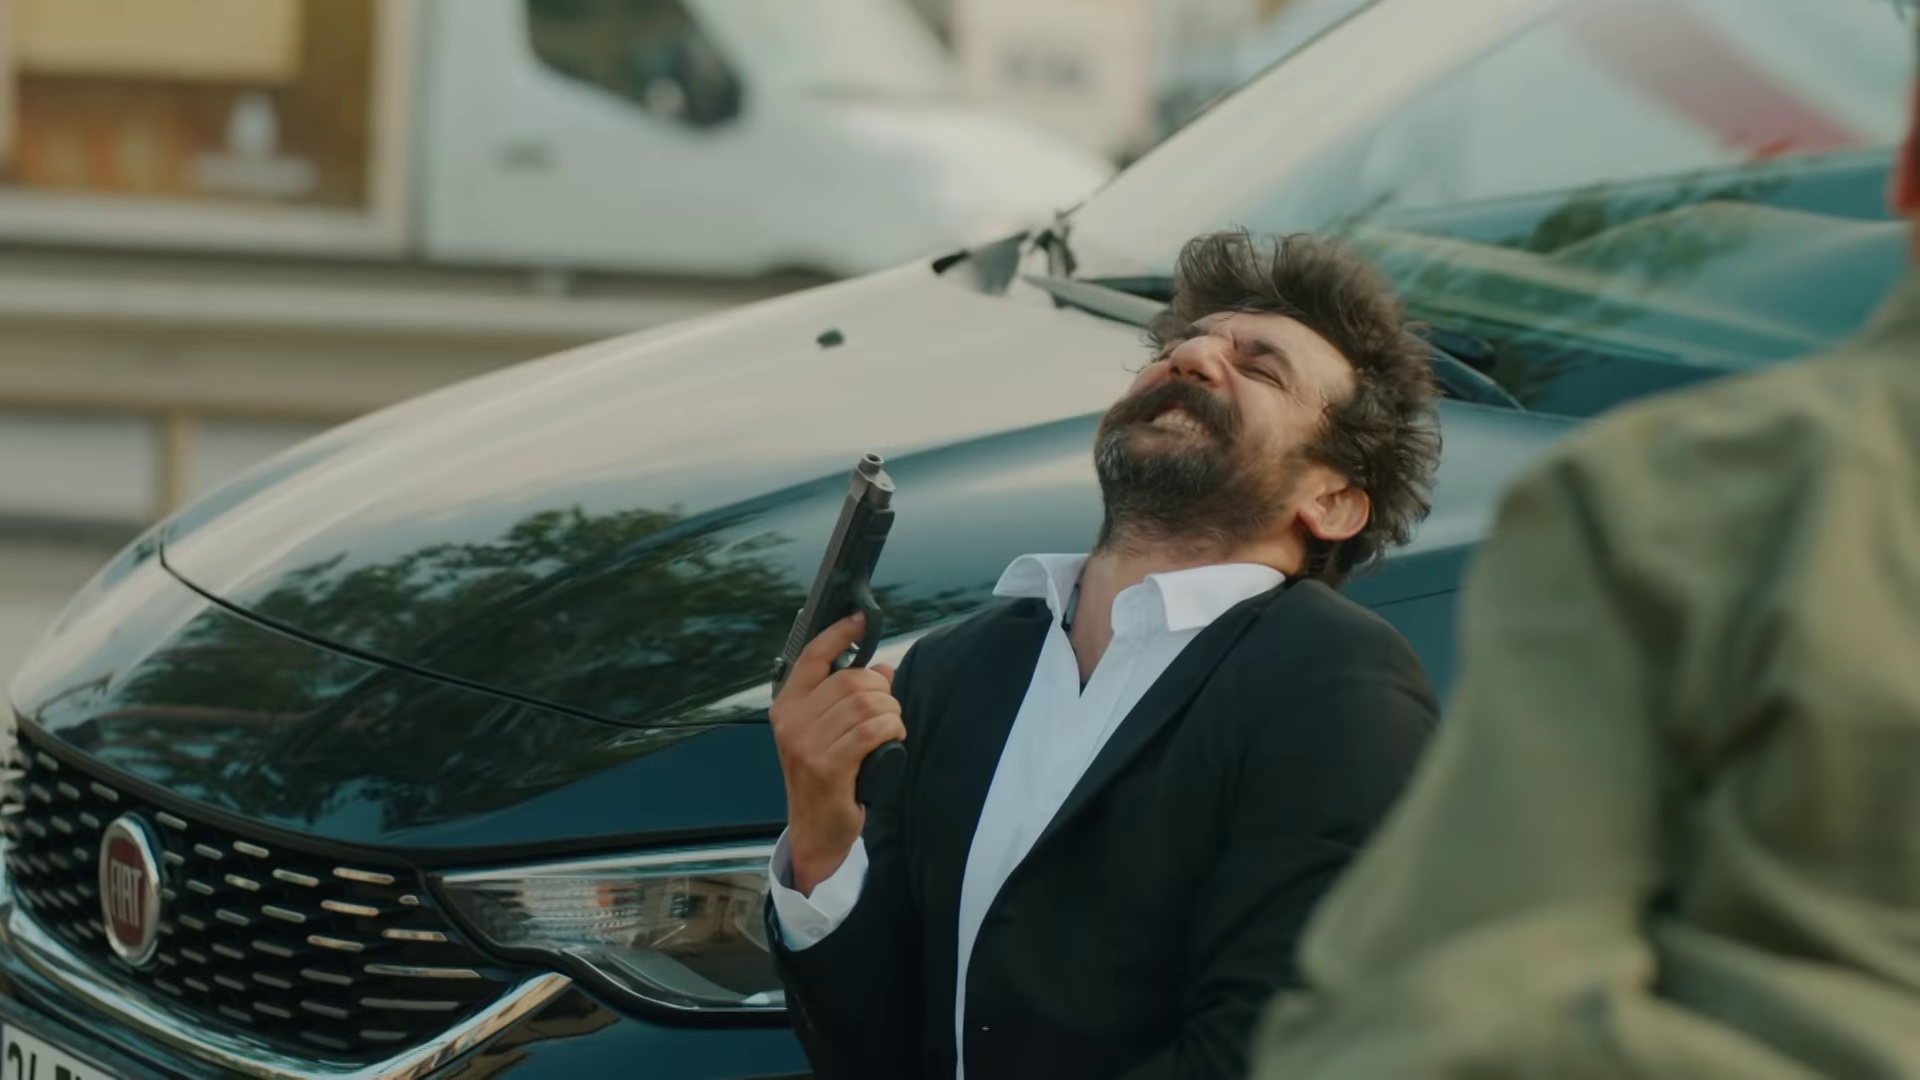gun: (769, 450, 922, 824)
p_w_gun: (750, 228, 1457, 1080)
